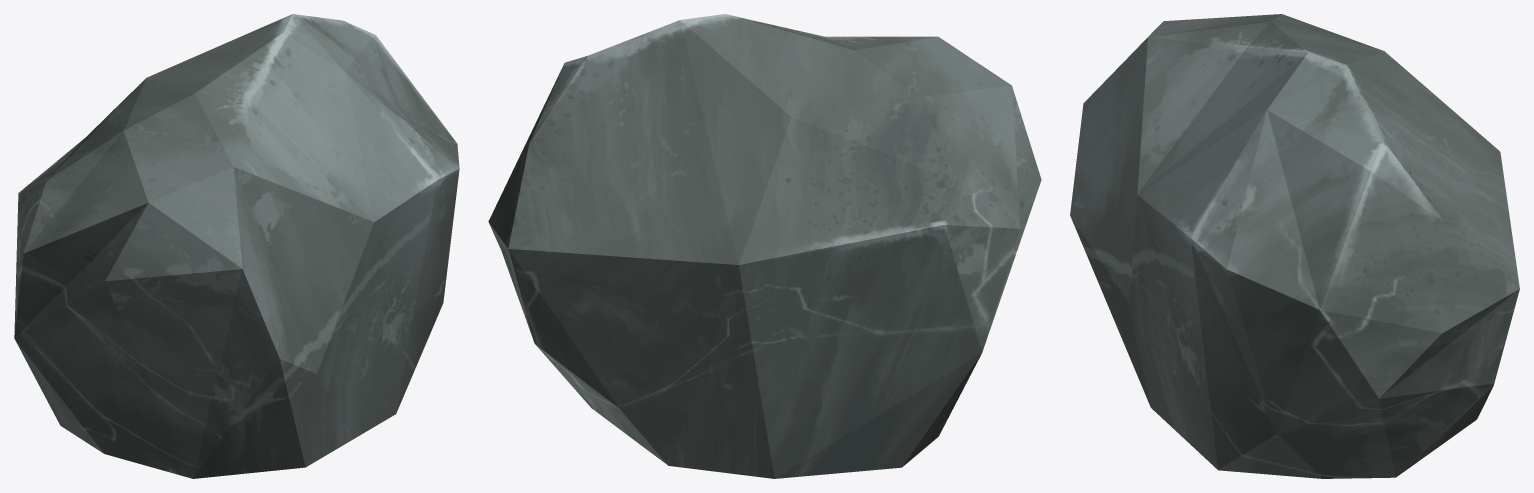
File: glaz_4.obj
3 views of the same model, side by side, from view 1: azimuth 30°, elevation 25°; view 2: azimuth 150°, elevation 25°; view 3: azimuth 270°, elevation 25° (orthographic). The views are drawn at different scales.
Parts seen in each view (by area): view 1: rock.010; view 2: rock.010; view 3: rock.010.
Part boxes in pixels (<box>): rock.010: <box>14,14,459,478</box>; rock.010: <box>488,14,1041,478</box>; rock.010: <box>1070,14,1519,478</box>.
Size of the model in its own units: 18.37 by 14.29 by 15.25.
1 material, 1 textured.
